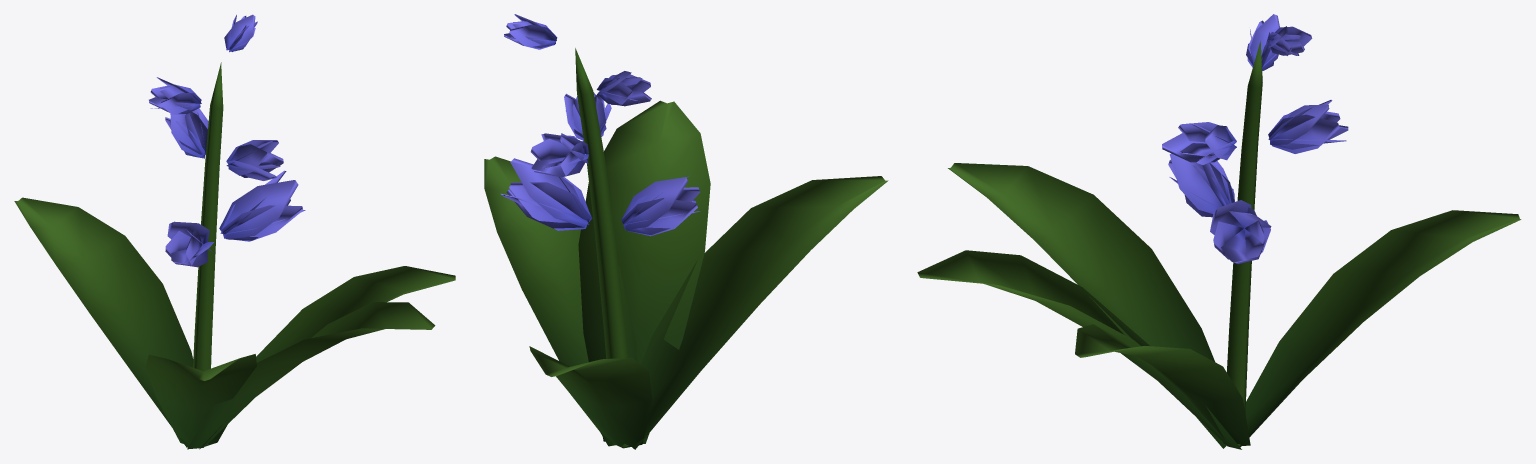
Rendered from flower-bluebell.glb.
3 views of the same model, side by side, from view 1: azimuth 30°, elevation 25°; view 2: azimuth 150°, elevation 25°; view 3: azimuth 270°, elevation 25° (orthographic). The views are drawn at different scales.
Parts seen in each view (by area): view 1: Flower_Bluebell; view 2: Flower_Bluebell; view 3: Flower_Bluebell.
Part boxes in pixels (bbox=[...]): Flower_Bluebell: bbox=[14, 14, 455, 449]; Flower_Bluebell: bbox=[484, 14, 888, 449]; Flower_Bluebell: bbox=[917, 14, 1521, 449].
Size of the model in its own units: 0.1879 by 0.2261 by 0.2709.
